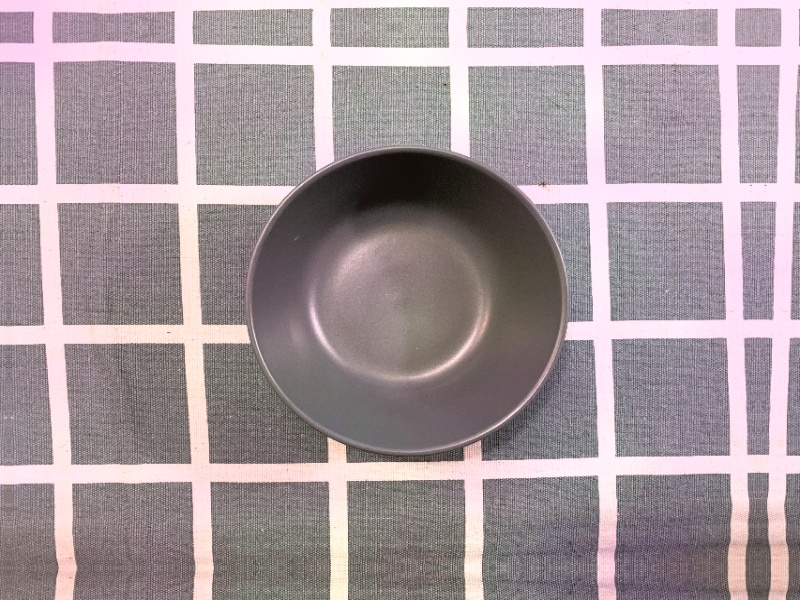bowl_big: (236, 140, 589, 468)
